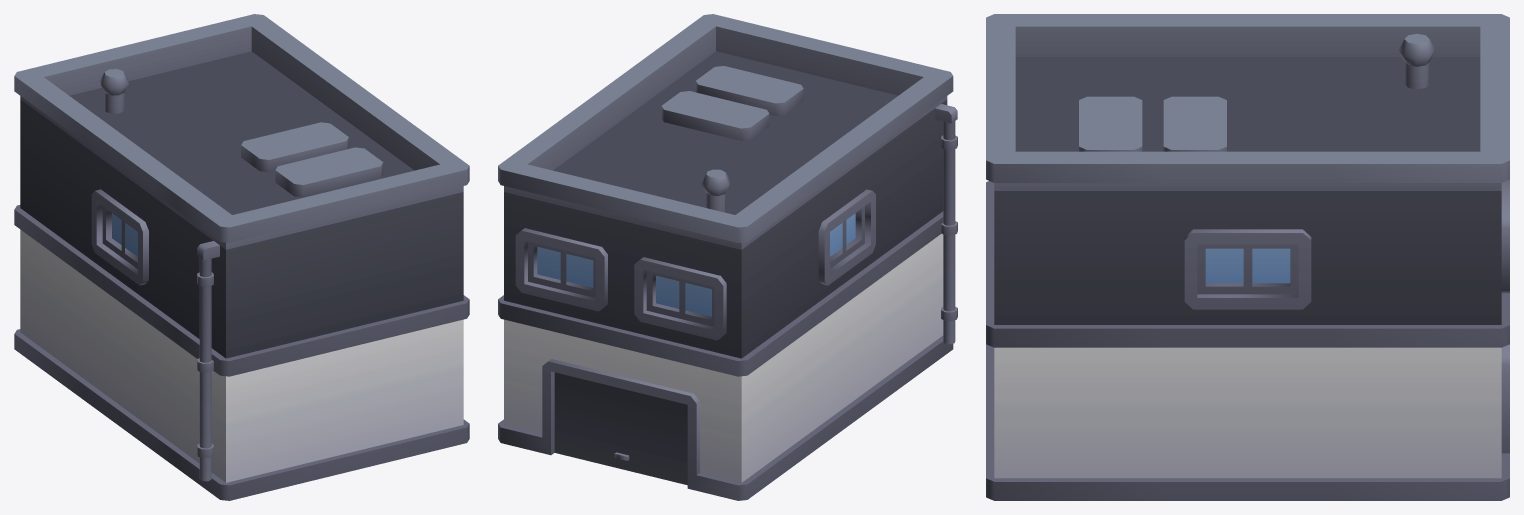
The model's file is k-city-kit-industrial-building-o.glb.
3 views of the same model, side by side, from view 1: azimuth 30°, elevation 25°; view 2: azimuth 150°, elevation 25°; view 3: azimuth 270°, elevation 25° (orthographic). The views are drawn at different scales.
Parts seen in each view (by area): view 1: building-o; view 2: building-o; view 3: building-o.
Boxes of the visible parts, x1,y1,x2,y2 form: building-o: (14,14,469,500); building-o: (498,14,957,500); building-o: (986,14,1509,500).
Bounding box in the file's own units: 0.8836 × 0.918 × 1.24.
1 material, 1 textured.
